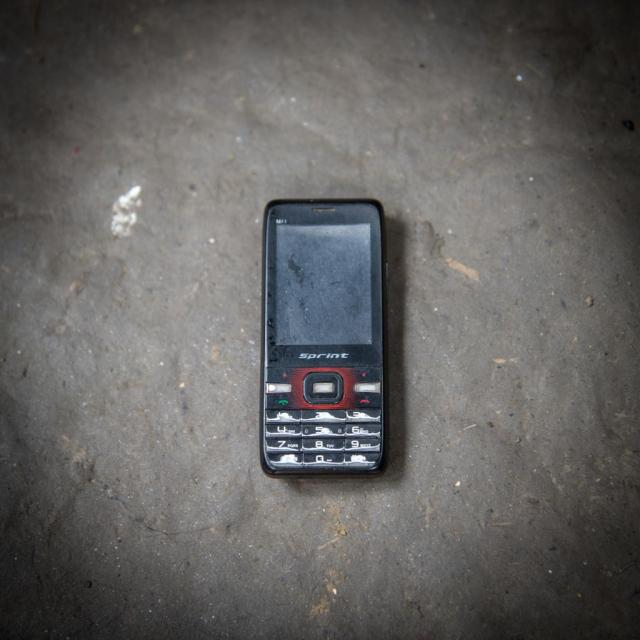Phone: (262, 198, 389, 483)
